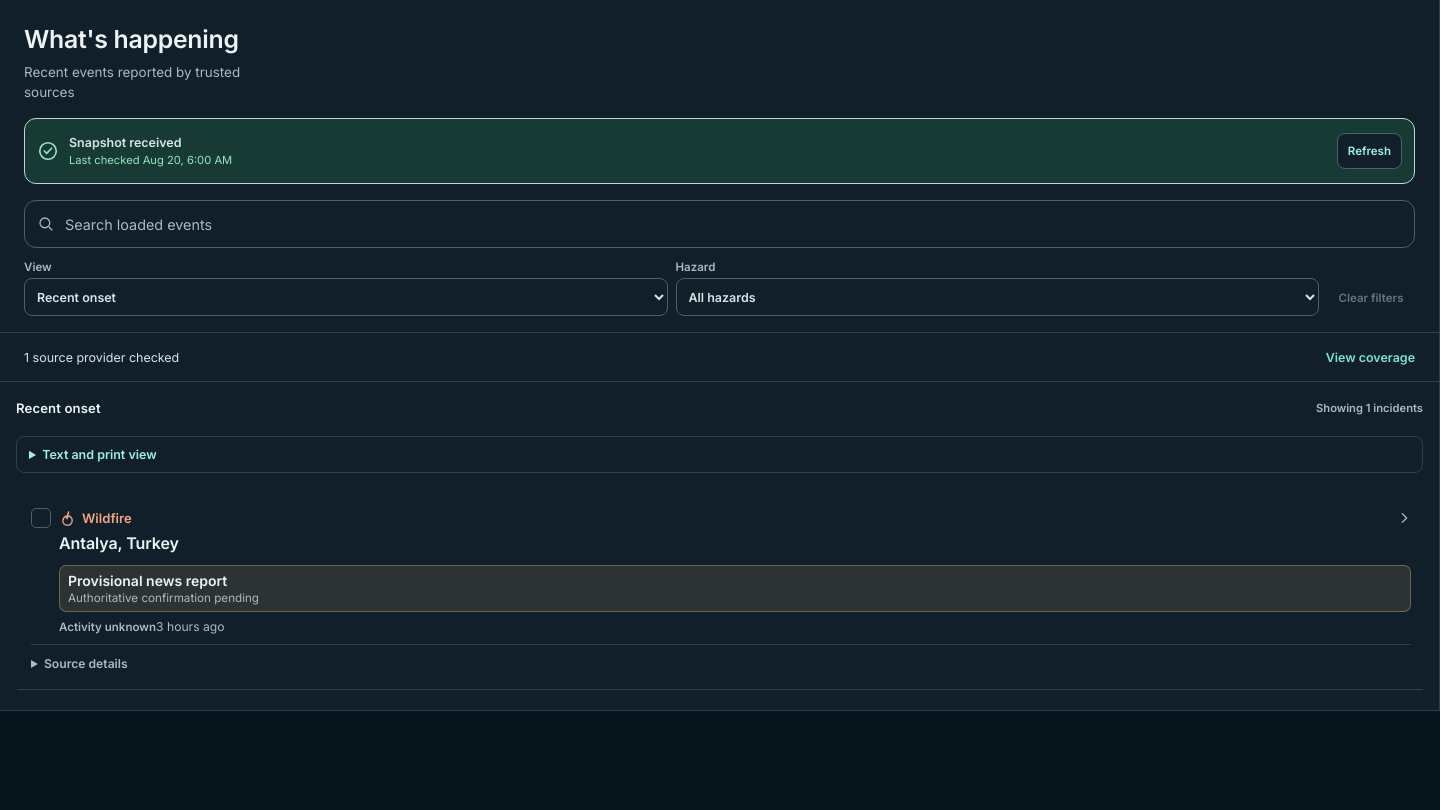
Test: ActiveIncidentsPanel › labels provisional news incidents and exposes the detection clock
Expected: the text "Provisional news report" is shown, top-left (68, 572), bottom-right (227, 589)
Expected: the text "Authoritative confirmation pending" is shown, top-left (68, 591), bottom-right (259, 605)
Step 1. Click the heading "Source details" → point(86, 664), box top-left (44, 656), bottom-right (128, 672)
(page scrolled)
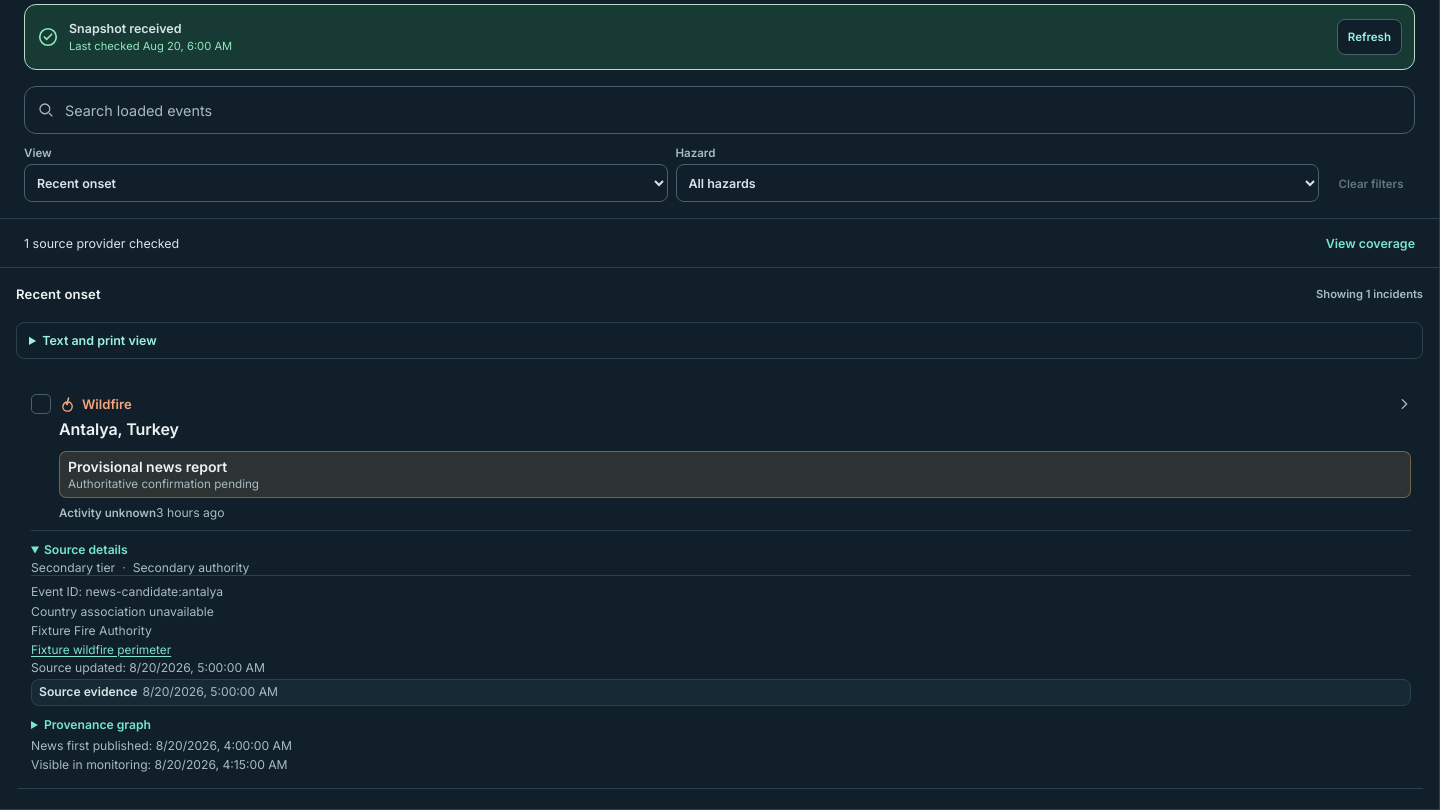
Expected: the text "News first published: 8/20/2026, 4:00:00 AM" is shown, top-left (31, 738), bottom-right (292, 752)
Expected: the text "Visible in monitoring: 8/20/2026, 4:15:00 AM" is shown, top-left (31, 757), bottom-right (288, 772)
